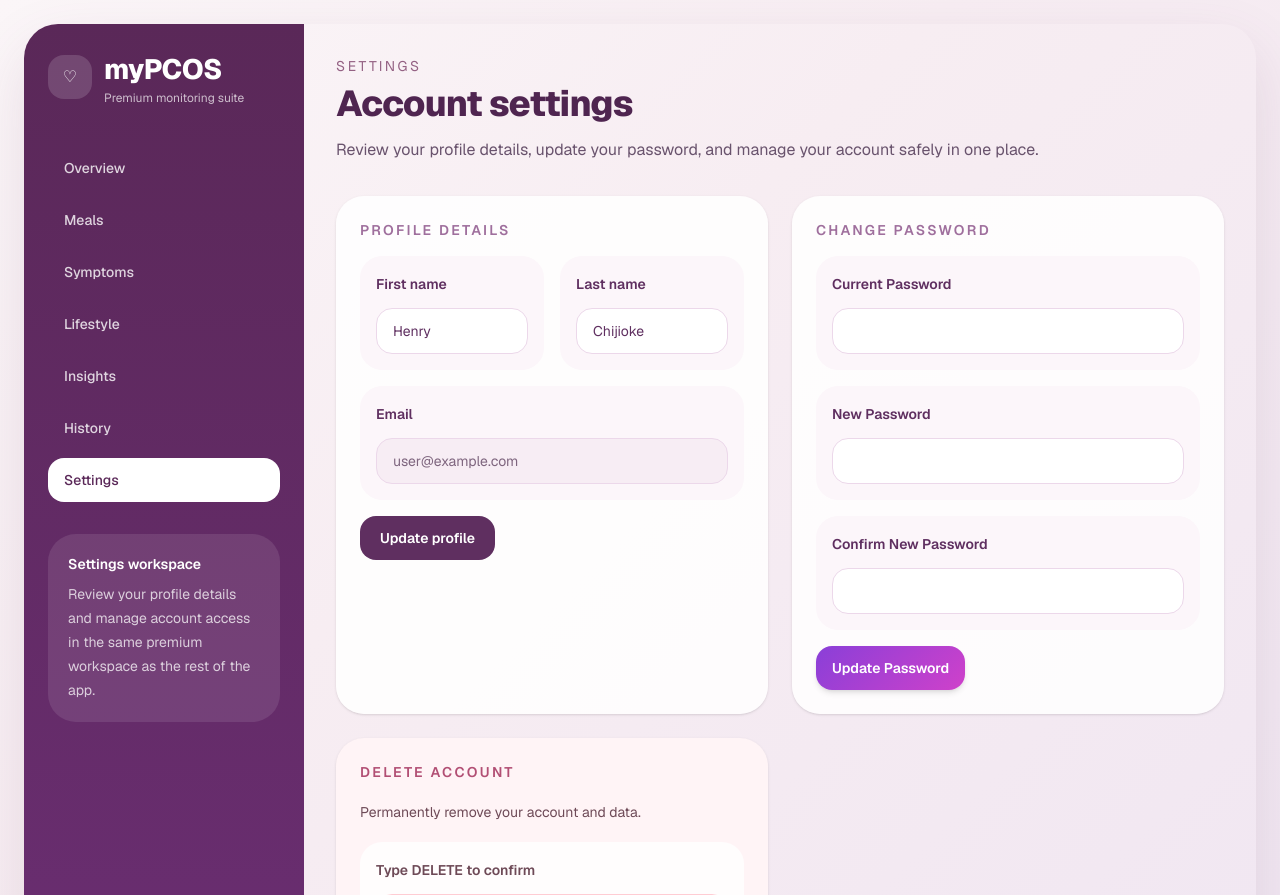
submits the change password form
Type "OldPass123" into the password field labelled "Current Password". click: [1008, 331]
box: [832,308,1184,354]
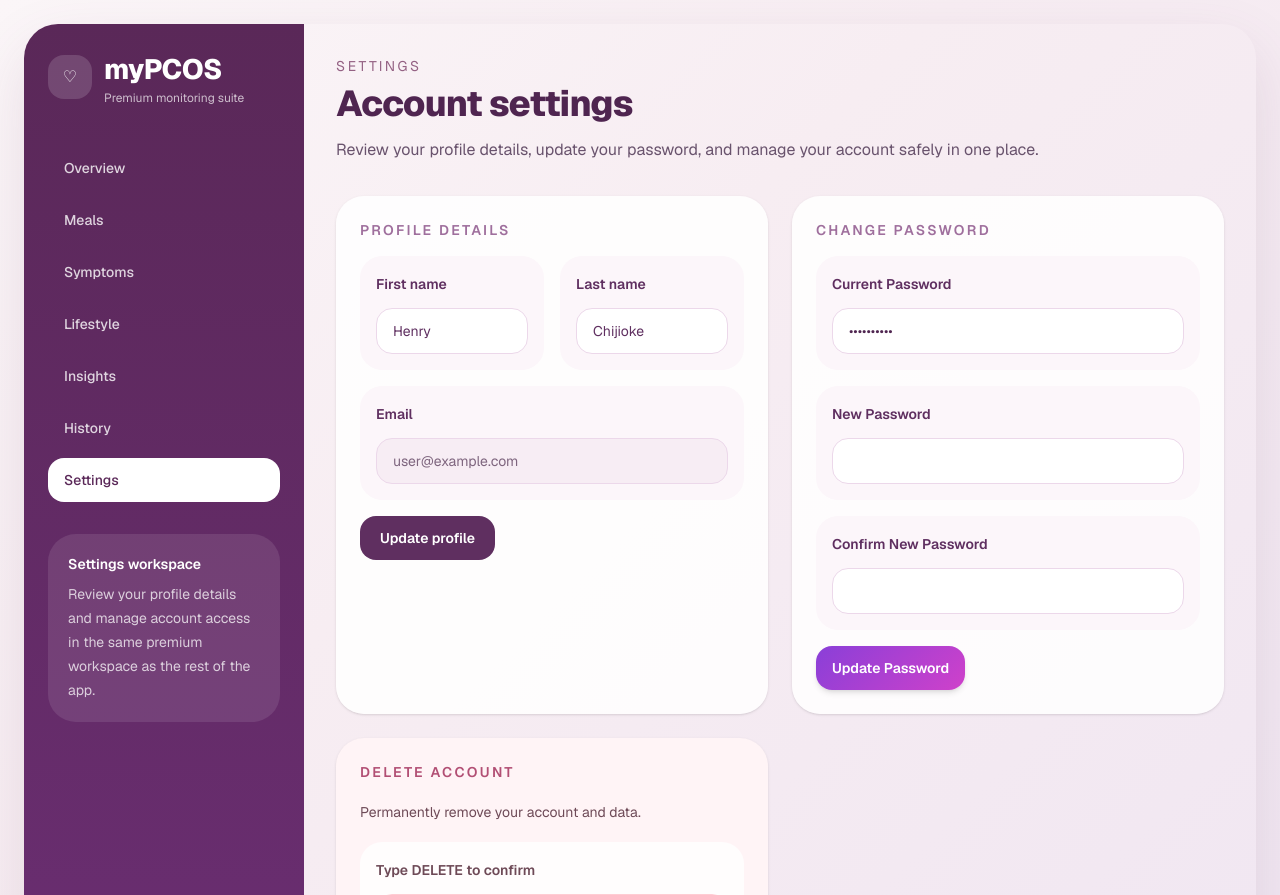
Type "NewPass456" into the password field labelled "New Password". click: [1008, 461]
box: [832,438,1184,484]
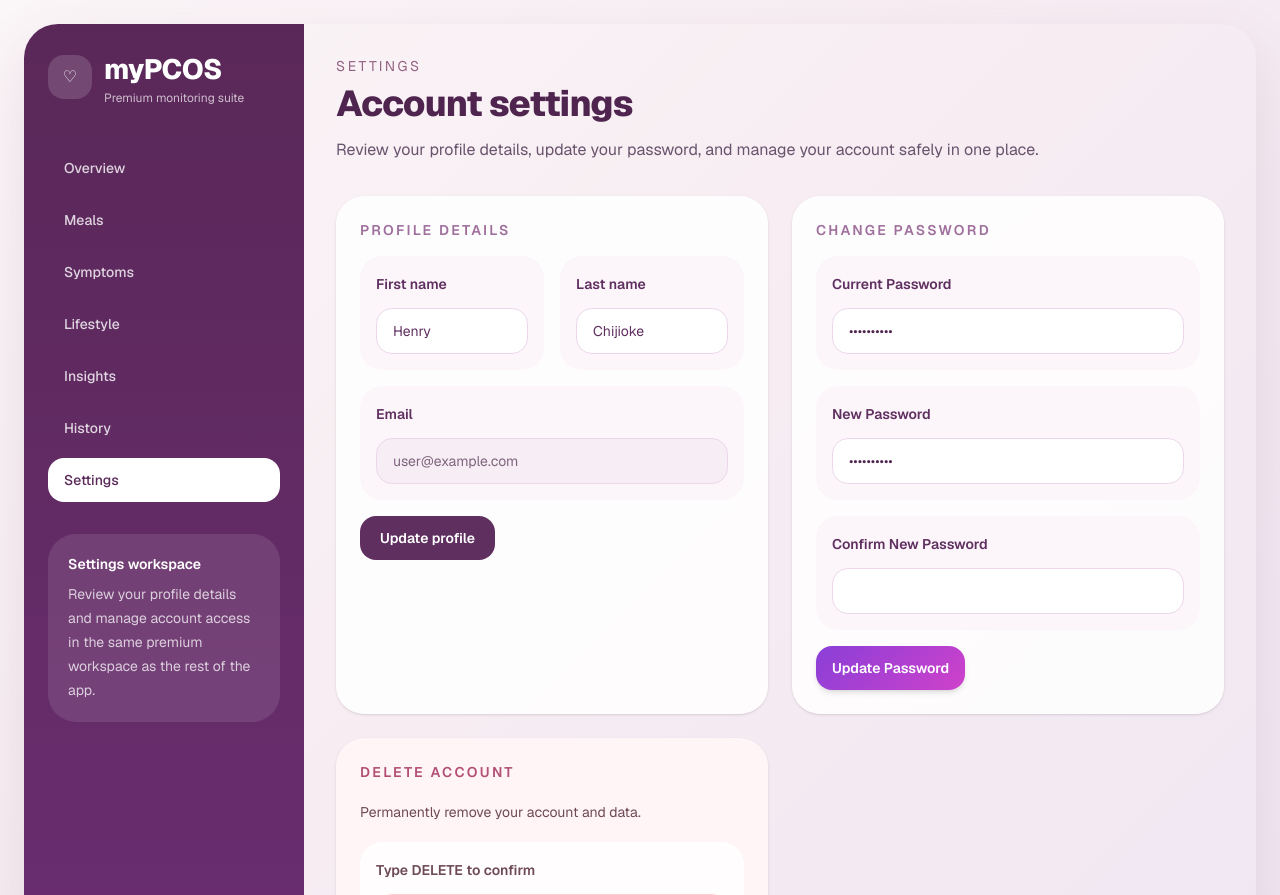
Type "NewPass456" into the password field labelled "Confirm New Password". click: [1008, 591]
box: [832,568,1184,614]
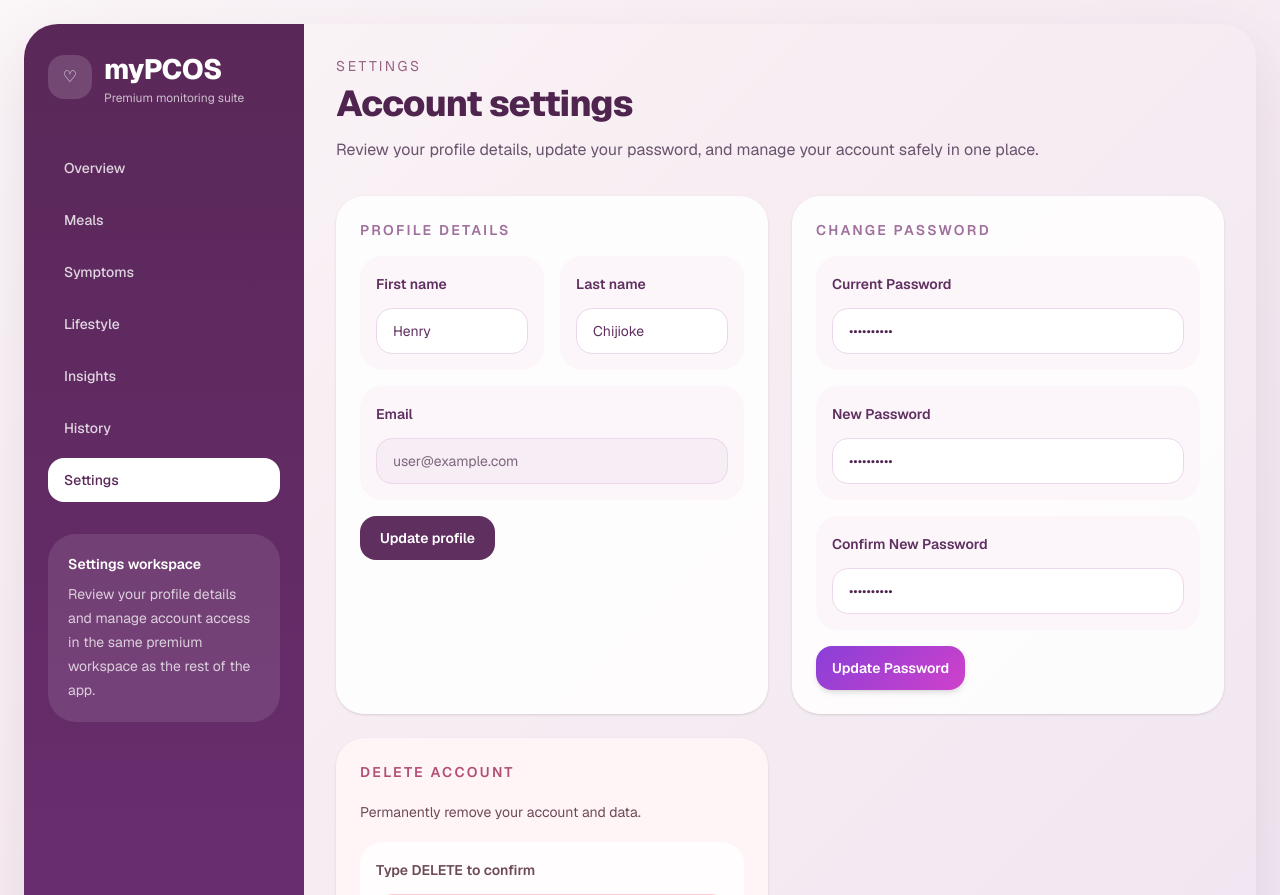
Click the button "Update Password". click: [891, 668]
box: [816,646,965,690]
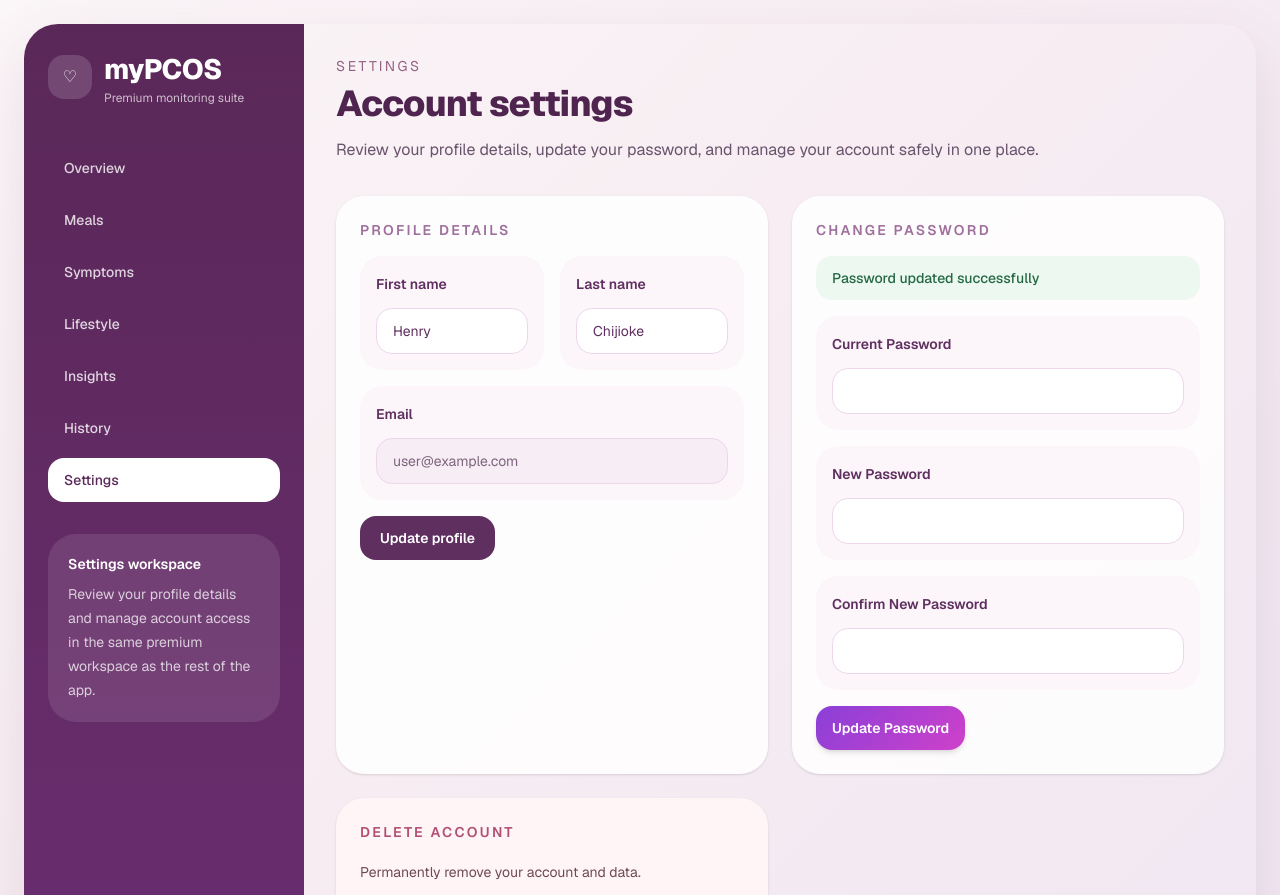
Expected: the text "Password updated successfully" is shown, [816,256,1200,300]
